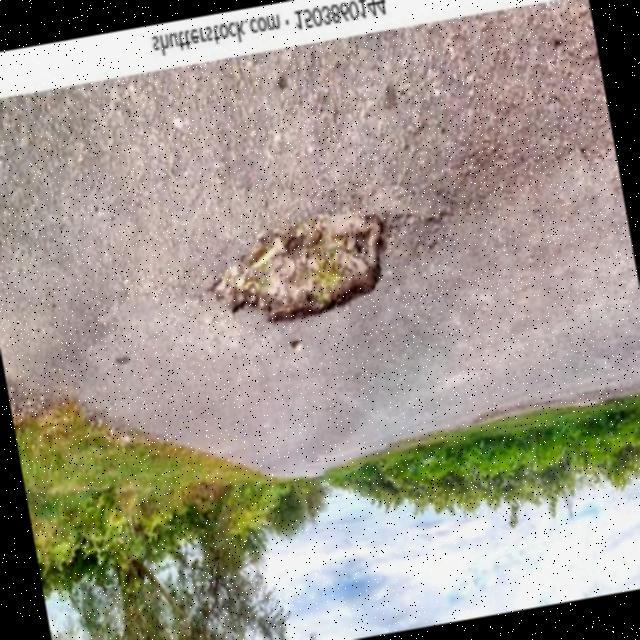Pothole: (210, 212, 389, 323)
